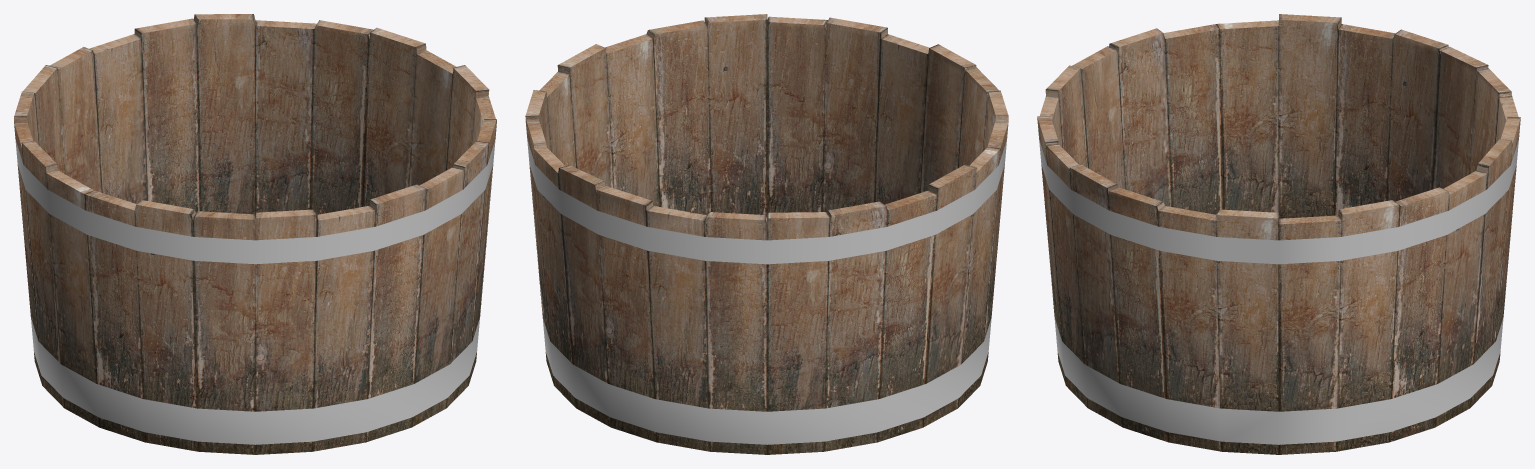
The model's file is Bucket4.fbx.
The picture shows the model from 3 angles, left to right: view 1: azimuth 30°, elevation 25°; view 2: azimuth 150°, elevation 25°; view 3: azimuth 270°, elevation 25°; orthographic projection.
Parts seen in each view (by area): view 1: pCylinder1; view 2: pCylinder1; view 3: pCylinder1.
Boxes of the visible parts, x1=… form: pCylinder1: x1=14, y1=14, x2=496, y2=454; pCylinder1: x1=525, y1=14, x2=1008, y2=454; pCylinder1: x1=1037, y1=14, x2=1520, y2=454.
Bounding box in the file's own units: 1.34 × 0.7587 × 1.34.
